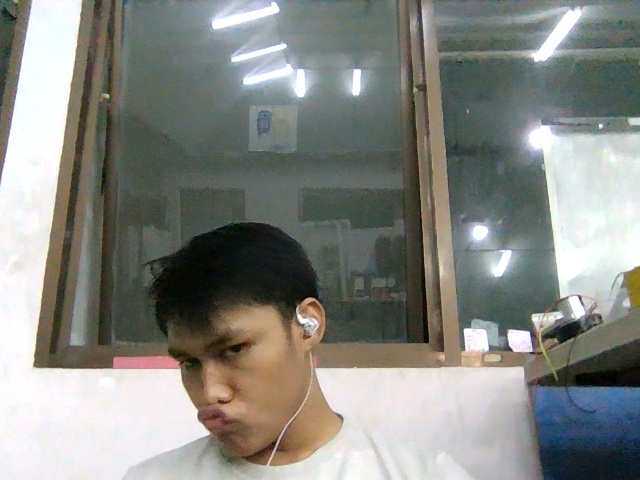mask_off: (183, 385, 299, 455)
